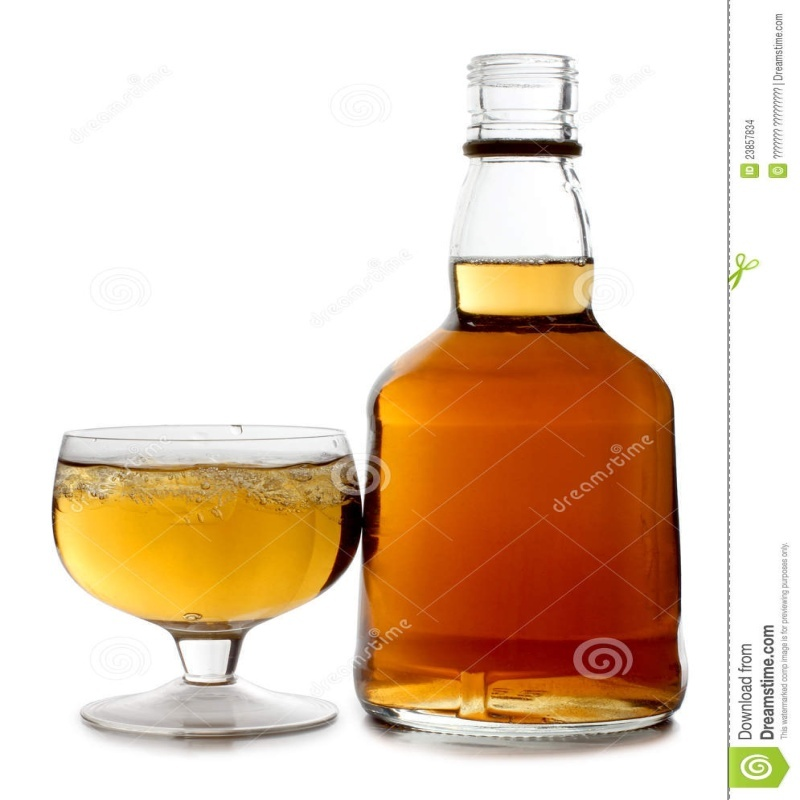whiskey: (56, 424, 369, 741)
